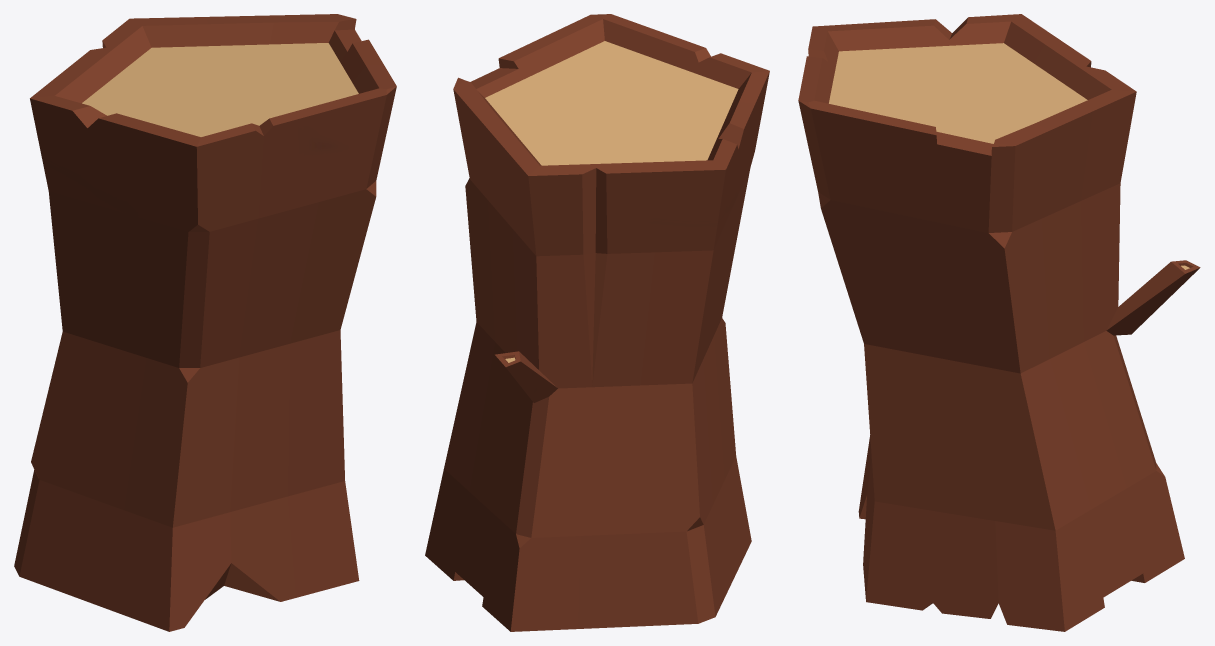
The model's file is tronco1.fbx.
3 views of the same model, side by side, from view 1: azimuth 30°, elevation 25°; view 2: azimuth 150°, elevation 25°; view 3: azimuth 270°, elevation 25° (orthographic). The views are drawn at different scales.
Visible parts, largest first — view 1: Cylinder; view 2: Cylinder; view 3: Cylinder.
Part boxes in pixels (x1=…): Cylinder: x1=14, y1=14, x2=396, y2=631; Cylinder: x1=425, y1=14, x2=769, y2=631; Cylinder: x1=798, y1=14, x2=1200, y2=631.
Size of the model in its own units: 130 by 206 by 150.
